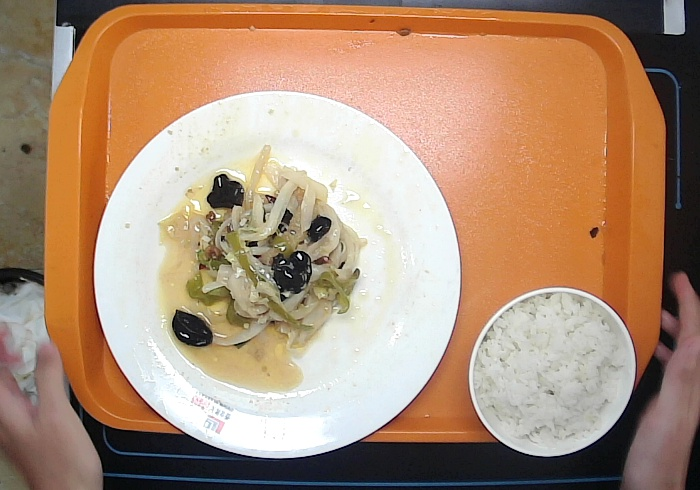ZNLD-Da_Yuan_Pan: (87, 85, 465, 463)
ZNLD-Fan_Wan: (465, 282, 641, 460)
